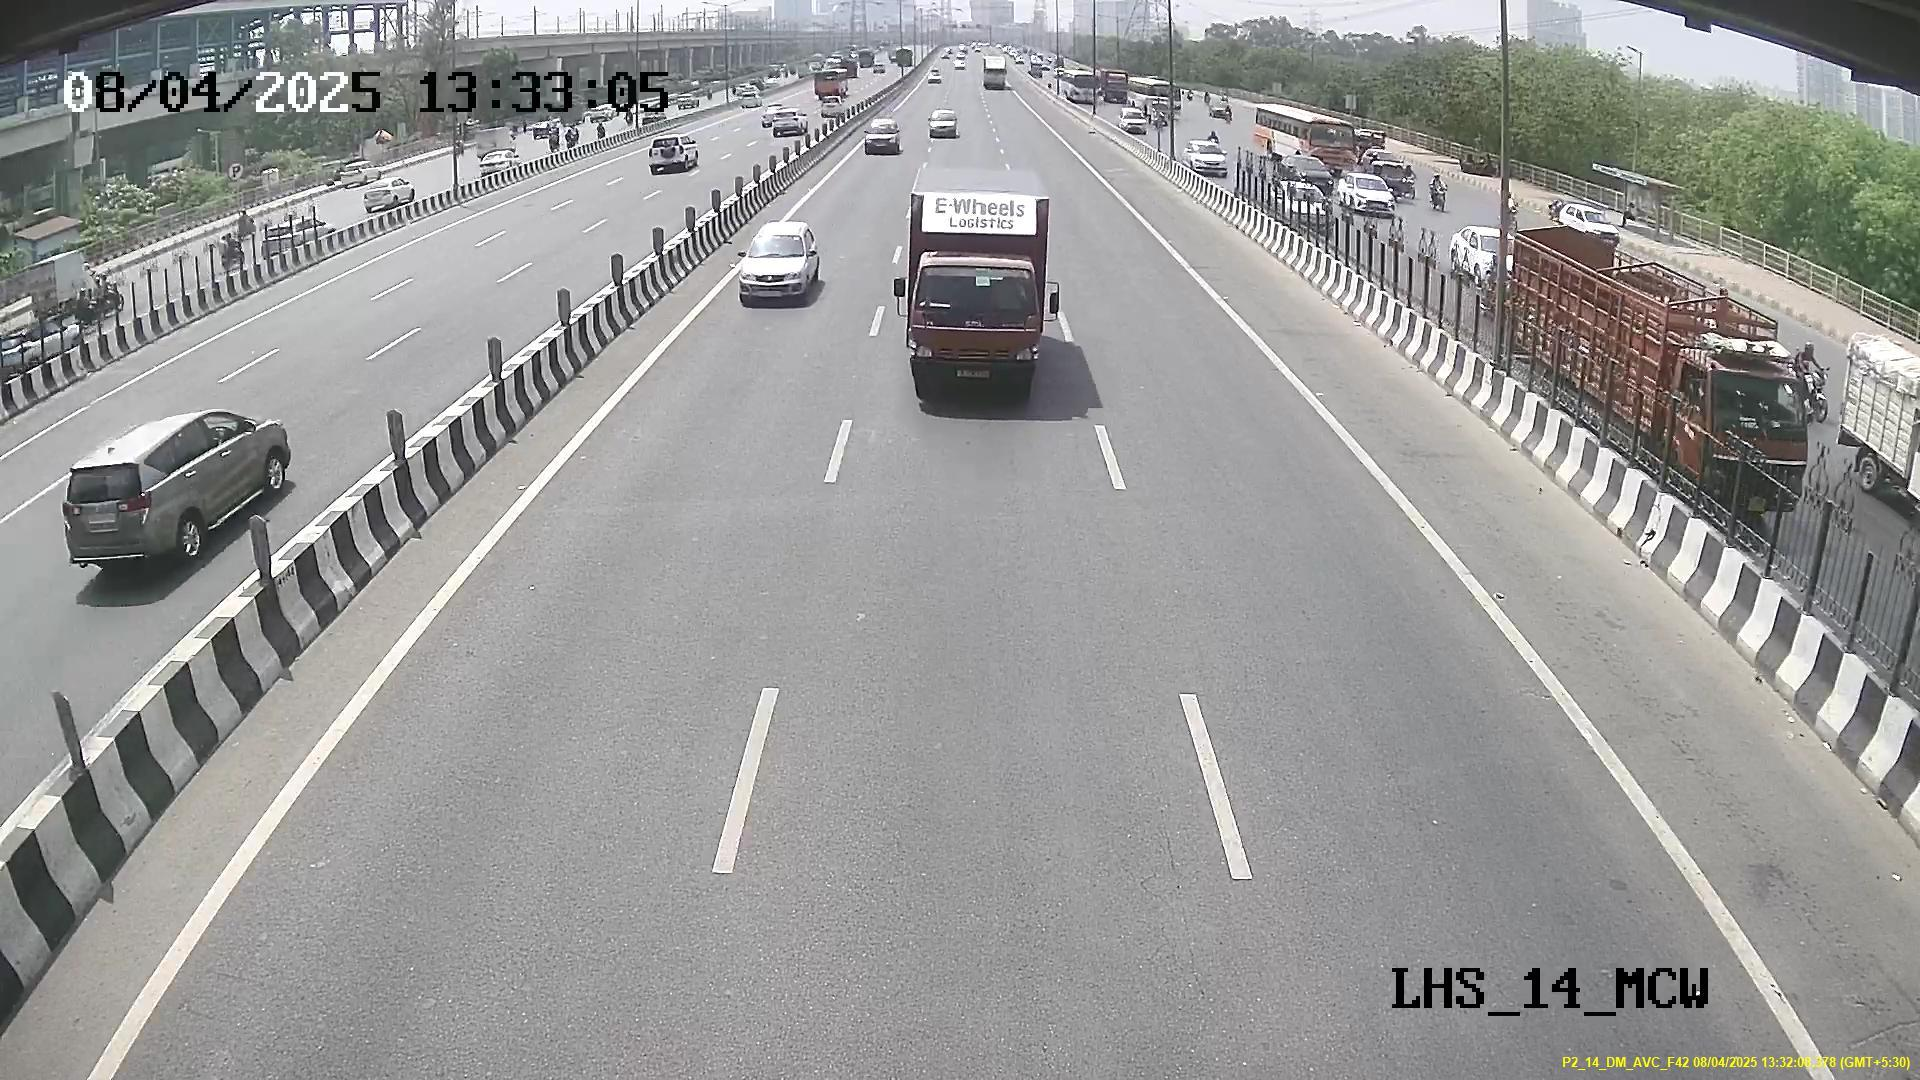car: (733, 224, 820, 309)
lcv: (905, 251, 1047, 394)
